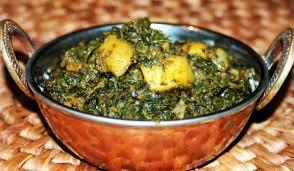Aloo Methi: (8, 21, 291, 165)
